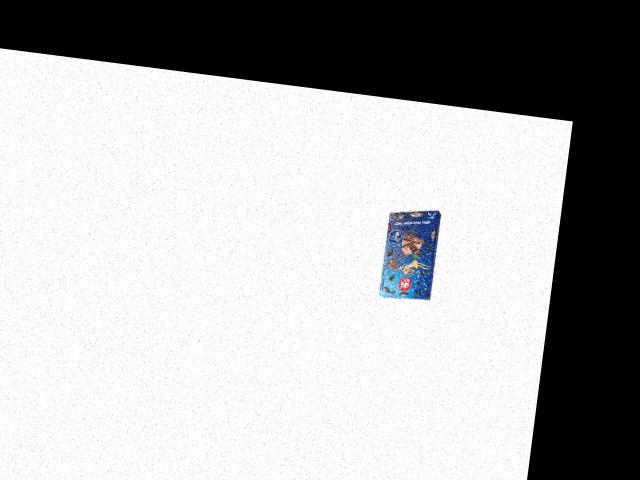chocolate: (371, 203, 447, 305)
